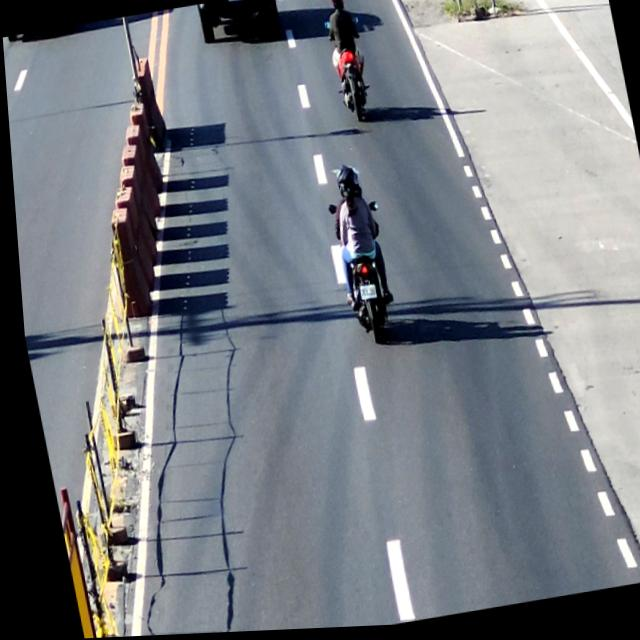License-Plate: (350, 284, 375, 304)
Motorcycle: (316, 157, 404, 361), (314, 0, 383, 133)
